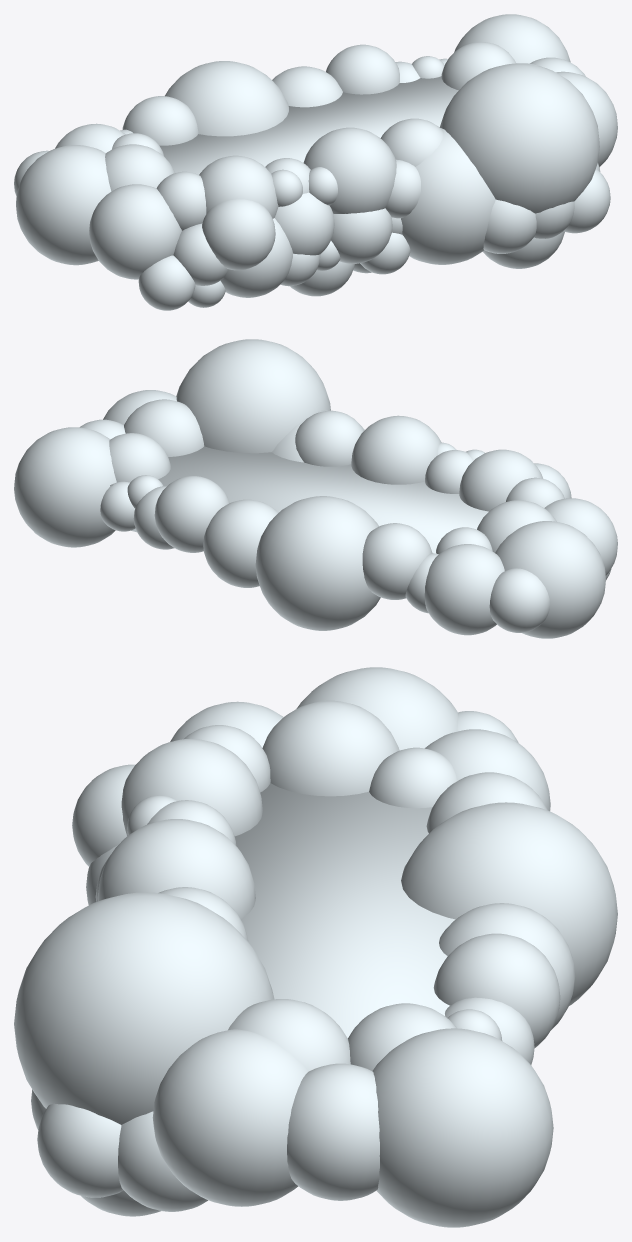
Rendered from Nuvem.obj.
3 renders of one model, top to bottom at view 1: azimuth 30°, elevation 25°; view 2: azimuth 150°, elevation 25°; view 3: azimuth 270°, elevation 25°, orthographic. The views are drawn at different scales.
Visible parts, largest first — view 1: Cube; view 2: Cube; view 3: Cube.
Boxes of the visible parts, x1,y1,x2,y2 form: Cube: (14,14,617,310); Cube: (14,339,617,638); Cube: (14,667,617,1227).
Size of the model in its own units: 14.31 by 4.6 by 8.18.
